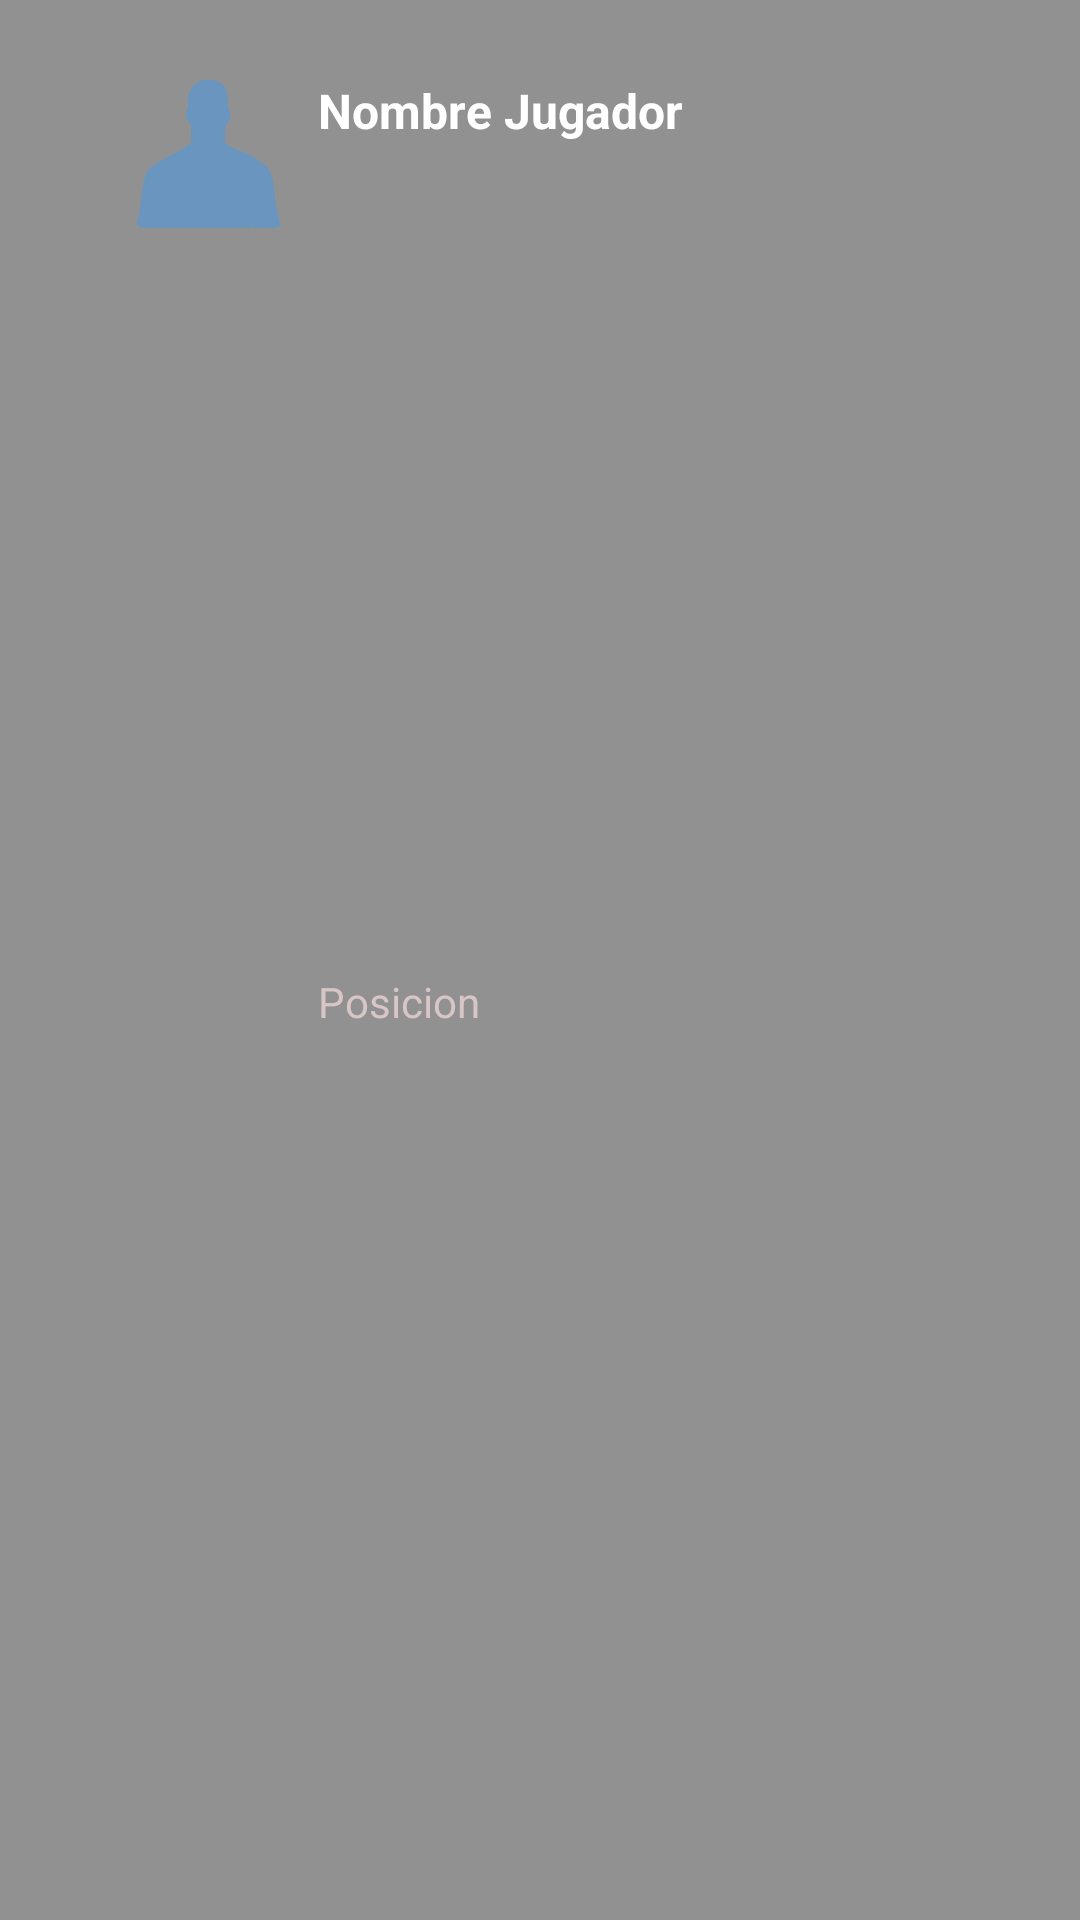

Icons on this 1080w x 1920h Android screen, each with the point to tap as (x,y):
placeholderplayer: (208,154)
